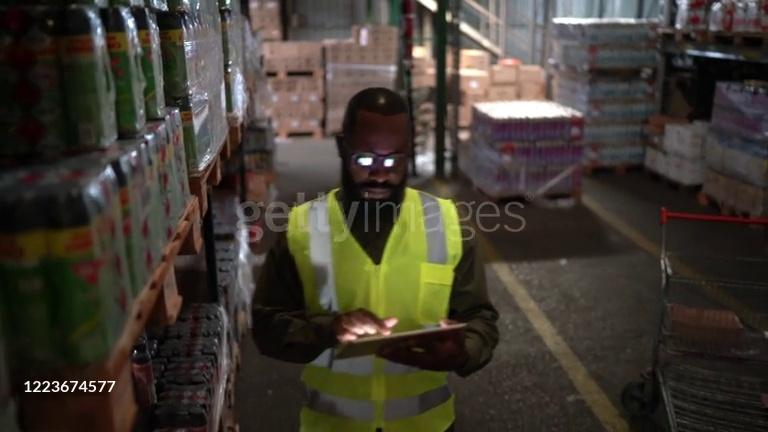person: (249, 90, 499, 432)
